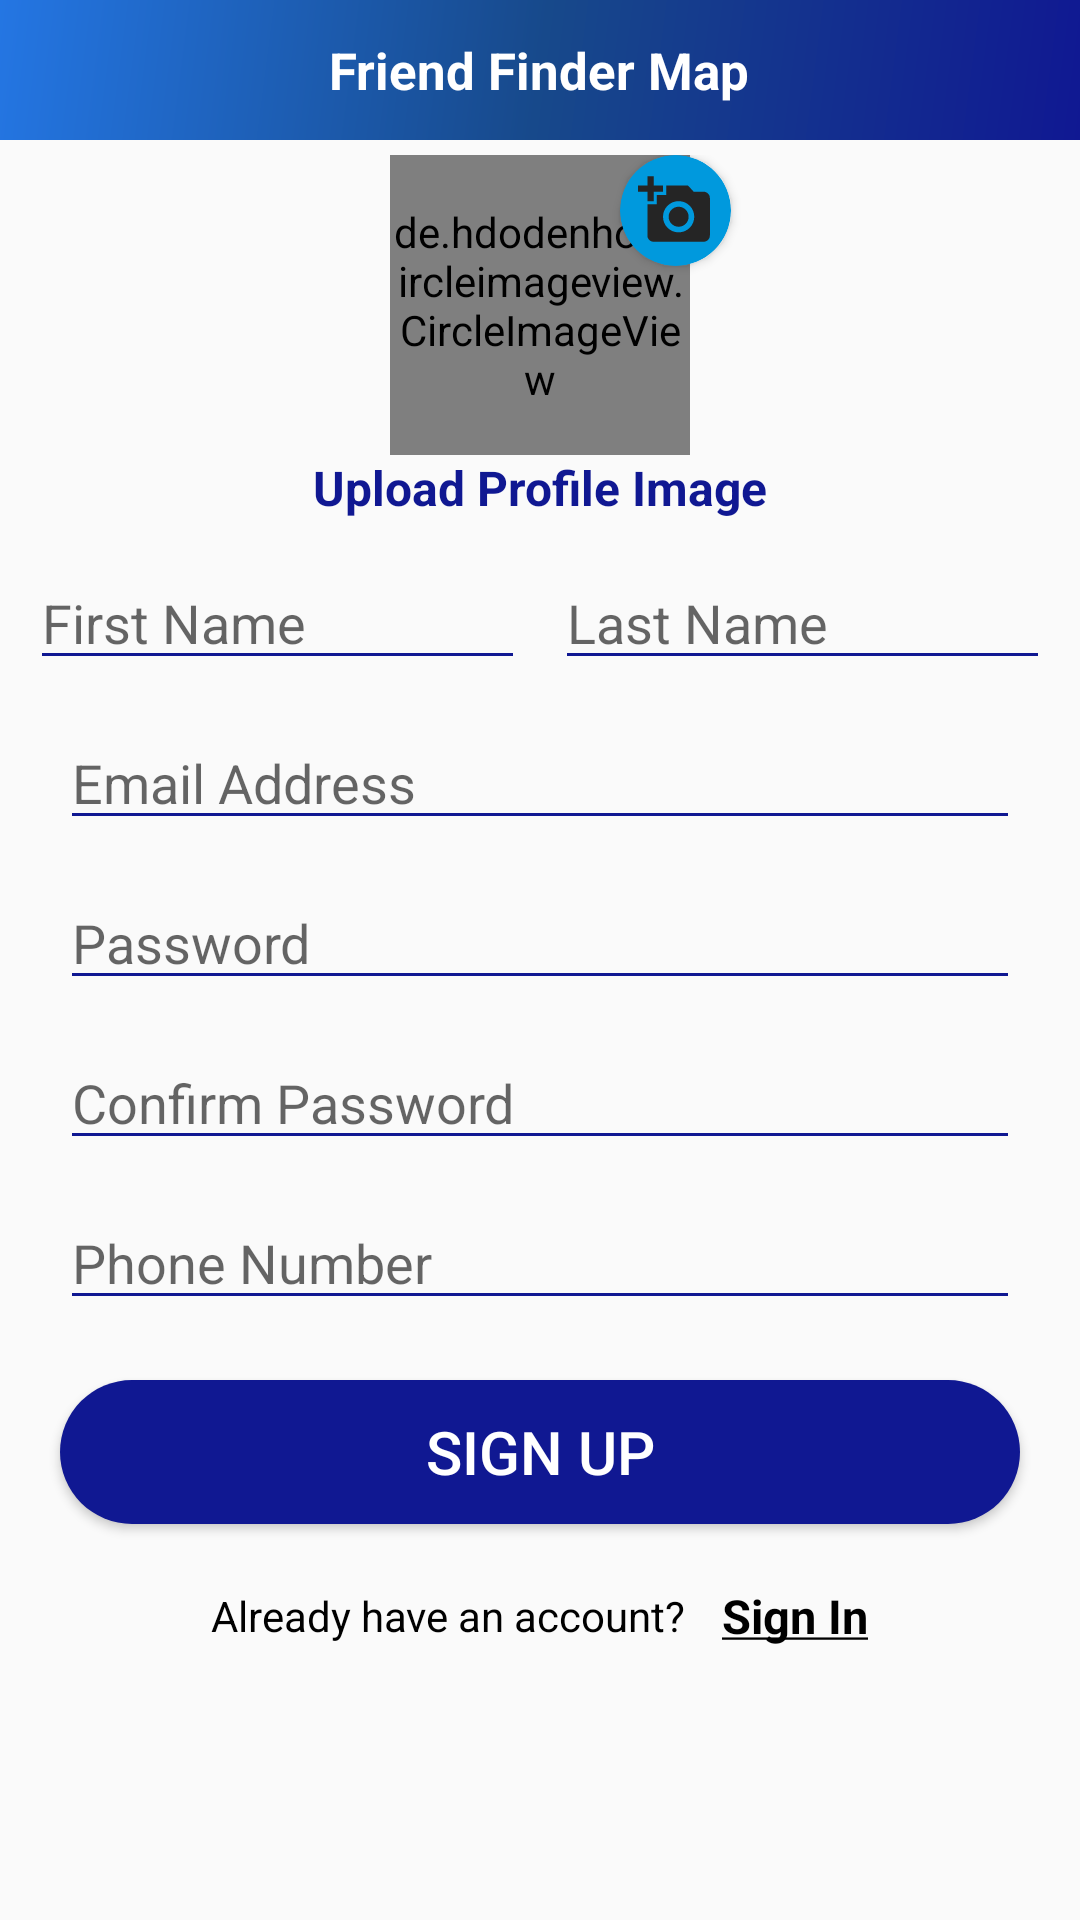

Icons on this 1080*1920 Android screen, each with the point to tap as (x=x, y=y):
add photo: (x=674, y=209)
